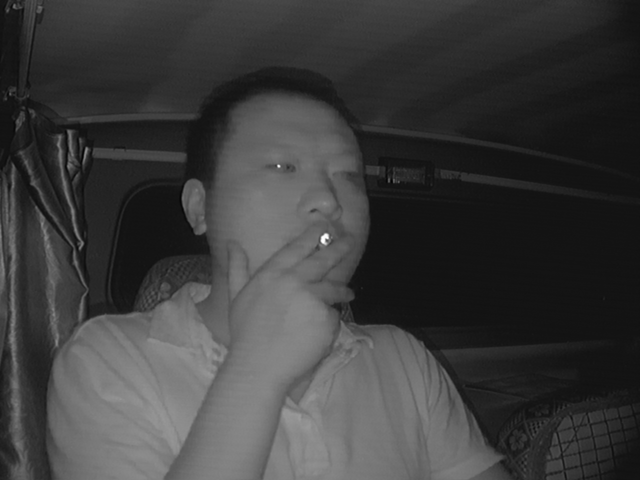hand: (265, 228, 355, 344)
